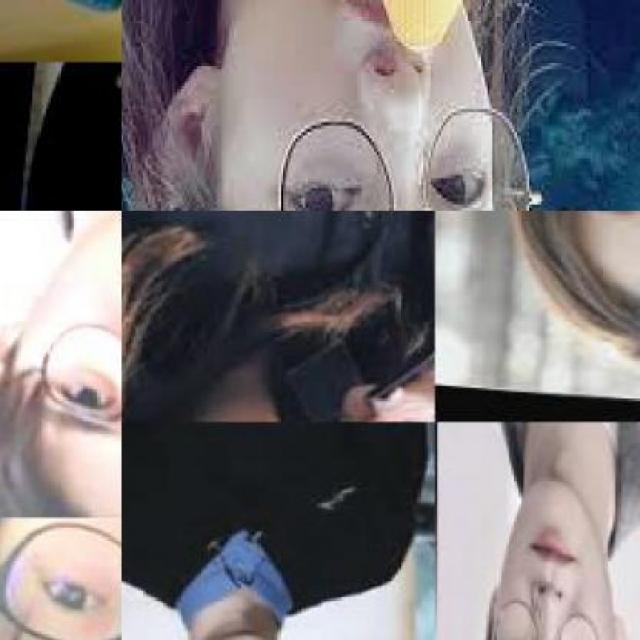glasses: (197, 99, 555, 210), (3, 297, 121, 423), (0, 520, 120, 638), (484, 602, 618, 638)
